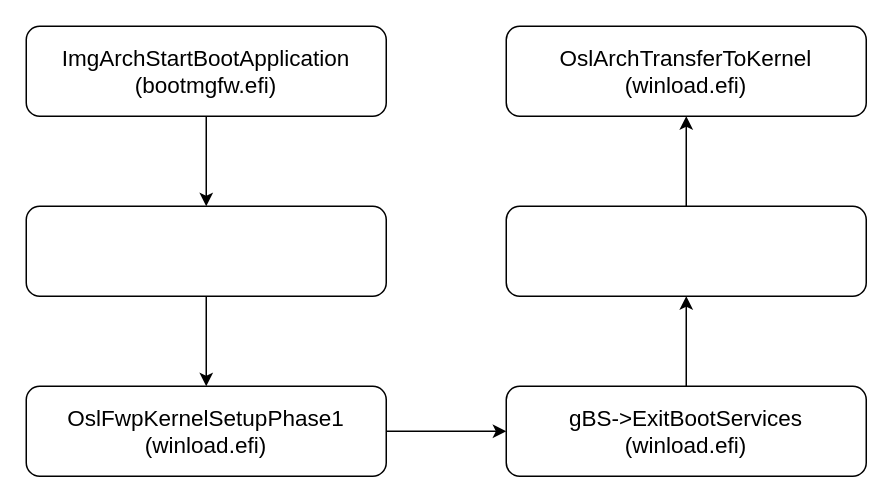
The diagram is 893 pixels wide and 503 high, and some of its shapes have lost their labels. Here are the shapes that lost their labels. From the top down, the box of each, then its label:
(25, 205, 386, 296): BlImgAllocateImageBuffer (winload.efi)
(505, 205, 866, 296): gRT->SetVirtualAddressMap (winload.efi)
